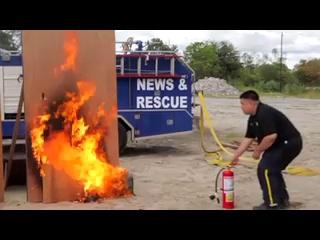Fire: (32, 64, 133, 202)
